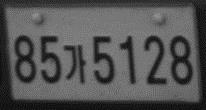1: (117, 34, 136, 84)
2: (143, 34, 168, 85)
5: (92, 35, 115, 83), (39, 35, 61, 83)
8: (169, 34, 193, 85), (13, 34, 36, 83)
가: (62, 43, 86, 83)
